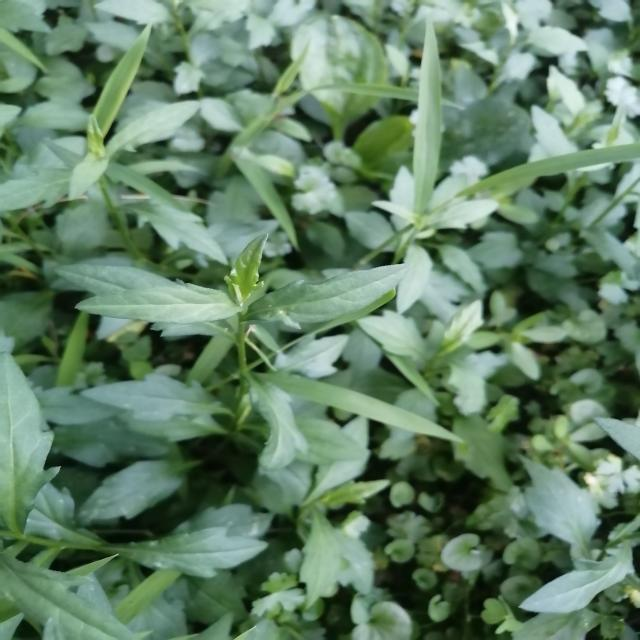Indian aster: (20, 227, 438, 493)
